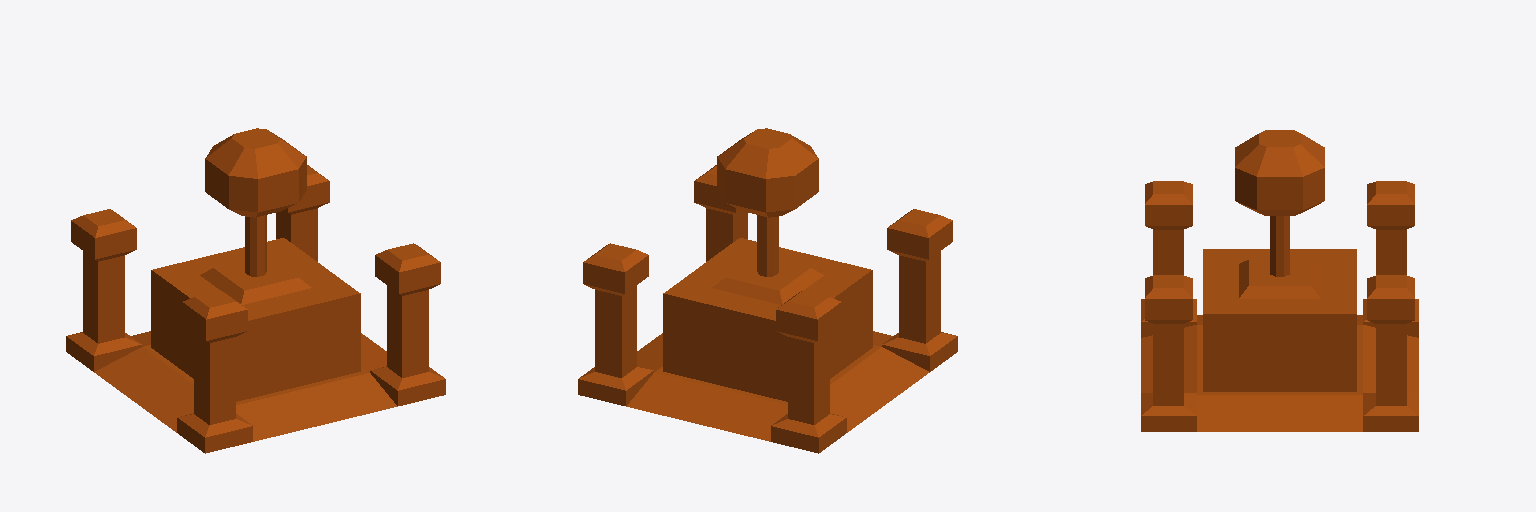
The model's file is recycler.obj.
The picture shows the model from 3 angles: view 1: azimuth 30°, elevation 25°; view 2: azimuth 150°, elevation 25°; view 3: azimuth 270°, elevation 25°; orthographic projection.
Parts seen in each view (by area): view 1: recycler; view 2: recycler; view 3: recycler.
Part boxes in pixels (x1,y1,x2,y2): recycler: (66,128,445,453); recycler: (578,128,957,453); recycler: (1141,130,1418,431).
Size of the model in its own units: 99.92 by 93.04 by 99.92.